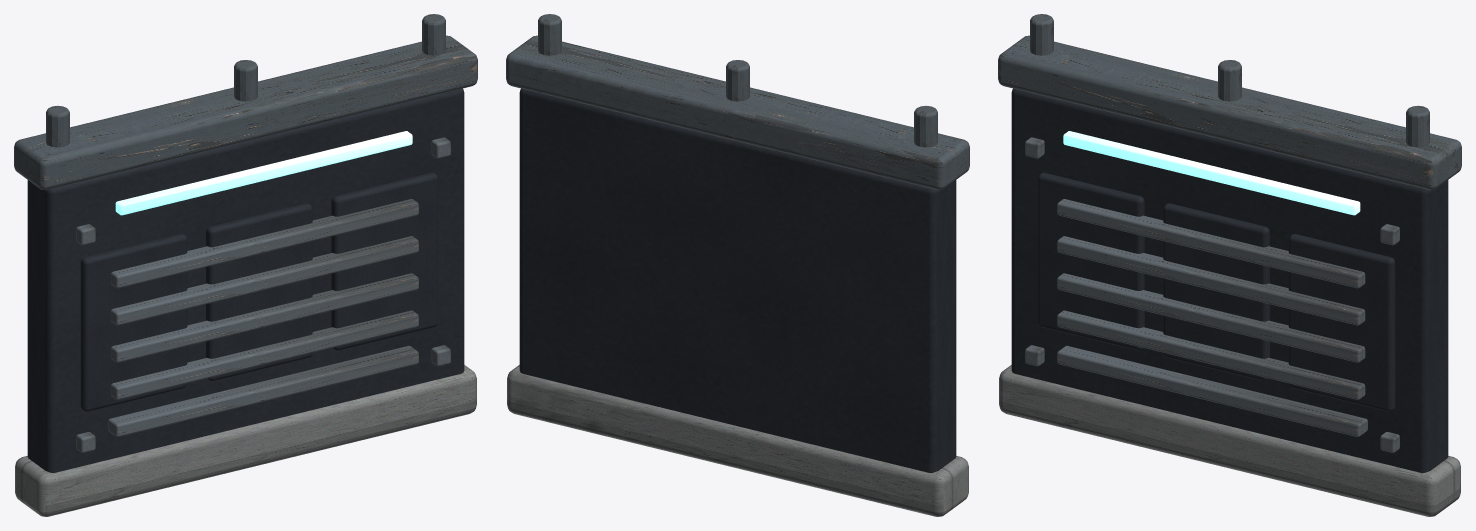
File: wall_section.glb
The picture shows the model from 3 angles, left to right: view 1: azimuth 30°, elevation 25°; view 2: azimuth 150°, elevation 25°; view 3: azimuth 330°, elevation 25°; orthographic projection.
Parts seen in each view (by area): view 1: WallBody, WallCap, WallBase, WallPanel0, WallPanel2, WallPanel1, WallLouver00, WallLouver04, WallLouver01, WallLouver03, WallLouver02, WallStatusStrip (+3 smaller); view 2: WallBody, WallCap, WallBase, WallBolt2, WallBolt0, WallBolt1; view 3: WallBody, WallCap, WallBase, WallPanel2, WallPanel0, WallPanel1, WallLouver00, WallLouver04, WallLouver01, WallLouver03, WallLouver02, WallStatusStrip (+3 smaller).
Part boxes in pixels (box(x1,y1,x2,y2)): WallBody: box(27, 88, 464, 472); WallCap: box(14, 35, 477, 190); WallBase: box(15, 365, 476, 516); WallPanel0: box(80, 234, 187, 411); WallPanel2: box(331, 172, 437, 350); WallPanel1: box(206, 203, 312, 380); WallLouver00: box(108, 345, 418, 436); WallLouver04: box(110, 199, 418, 288); WallLouver01: box(110, 310, 418, 399); WallLouver03: box(110, 236, 418, 325); WallLouver02: box(110, 273, 418, 362); WallStatusStrip: box(115, 131, 412, 215); WallBody: box(519, 88, 956, 472); WallCap: box(506, 35, 969, 190); WallBase: box(507, 365, 968, 516); WallBolt2: box(538, 14, 561, 55); WallBolt0: box(914, 105, 937, 147); WallBolt1: box(726, 60, 749, 101); WallBody: box(1011, 88, 1448, 472); WallCap: box(998, 35, 1461, 190); WallBase: box(999, 365, 1460, 516); WallPanel2: box(1288, 234, 1395, 411); WallPanel0: box(1038, 172, 1144, 350); WallPanel1: box(1163, 203, 1269, 380); WallLouver00: box(1057, 345, 1367, 436); WallLouver04: box(1057, 199, 1365, 288); WallLouver01: box(1057, 310, 1365, 399); WallLouver03: box(1057, 236, 1365, 325); WallLouver02: box(1057, 273, 1365, 362); WallStatusStrip: box(1063, 131, 1360, 215).
Size of the model in its own units: 4.2 by 3.6 by 0.62.
Materials: 5 (5 with a texture image).
